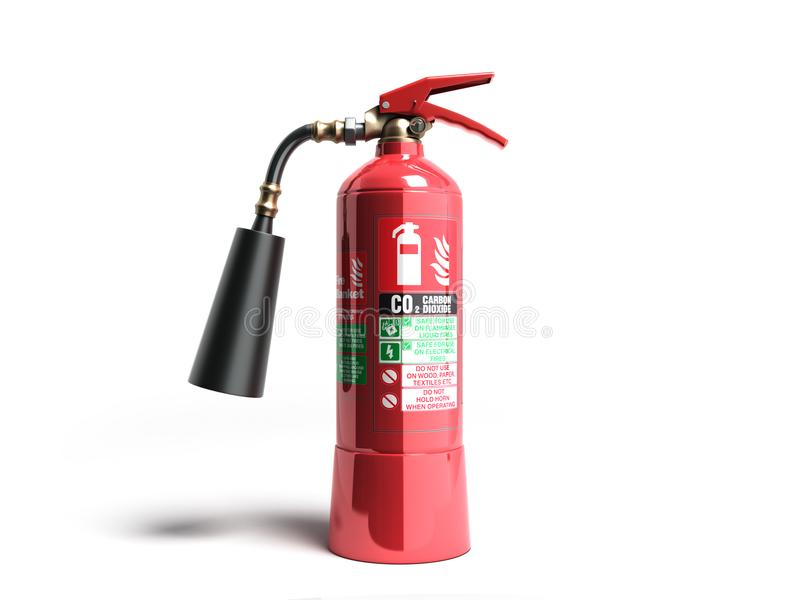fire_extinguisher: (187, 71, 509, 565)
